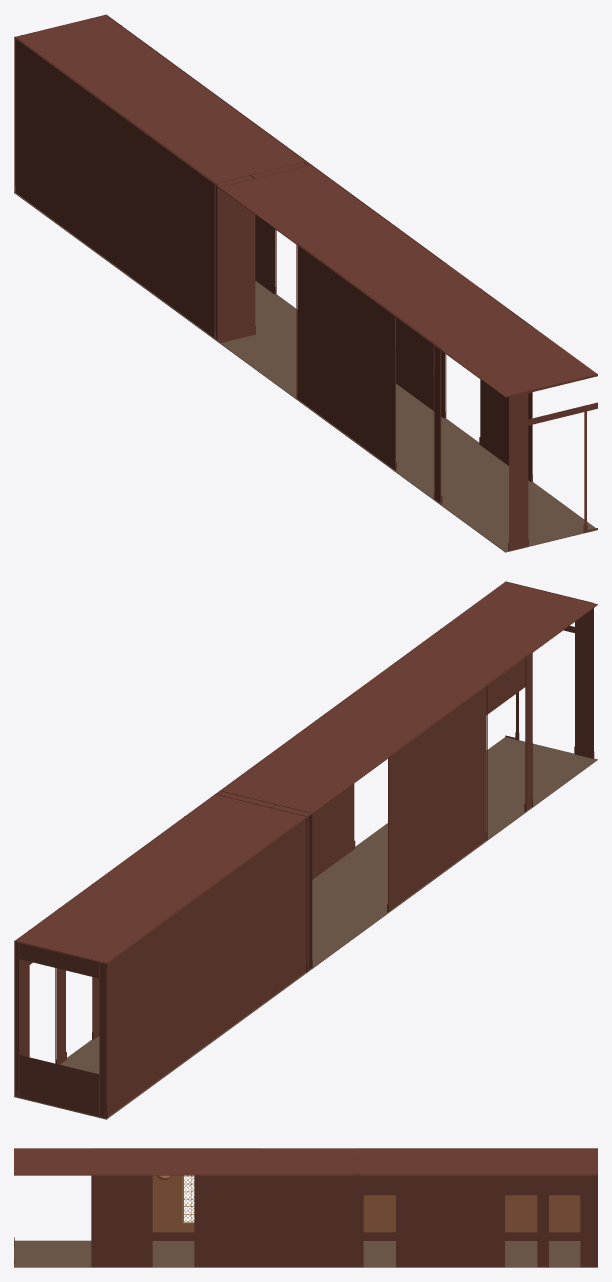
Rendered from corridor-2.glb.
3 renders of one model, top to bottom at view 1: azimuth 30°, elevation 25°; view 2: azimuth 150°, elevation 25°; view 3: azimuth 270°, elevation 25°, orthographic. The views are drawn at different scales.
Parts seen in each view (by area): view 1: DESIGN | corridor removable wall finish, DESIGN | corridor ceiling finish, DESIGN | corridor floor finish; view 2: DESIGN | corridor removable wall finish, DESIGN | corridor ceiling finish, DESIGN | corridor floor finish; view 3: DESIGN | corridor removable wall finish, DESIGN | corridor ceiling finish, DESIGN | corridor floor finish, DESIGN | Oxblood gallery mirror backing, DESIGN | Oxblood gallery mirror backing.001, DESIGN | Evening bronze-lit lattice diffuse backing.001, DESIGN | Kumiko | Evening bronze-lit lattice.001.
Part boxes in pixels (<box>): DESIGN | corridor removable wall finish: <box>14,14,597,550</box>; DESIGN | corridor ceiling finish: <box>14,15,597,397</box>; DESIGN | corridor floor finish: <box>14,192,597,552</box>; DESIGN | corridor removable wall finish: <box>14,581,594,1118</box>; DESIGN | corridor ceiling finish: <box>14,582,597,964</box>; DESIGN | corridor floor finish: <box>14,737,597,1119</box>; DESIGN | corridor removable wall finish: <box>14,1148,597,1267</box>; DESIGN | corridor ceiling finish: <box>14,1148,597,1175</box>; DESIGN | corridor floor finish: <box>14,1240,597,1267</box>; DESIGN | Oxblood gallery mirror backing: <box>363,1195,580,1232</box>; DESIGN | Oxblood gallery mirror backing.001: <box>152,1175,194,1232</box>; DESIGN | Evening bronze-lit lattice diffuse backing.001: <box>184,1175,194,1222</box>; DESIGN | Kumiko | Evening bronze-lit lattice.001: <box>182,1175,194,1223</box>.
Size of the model in its own units: 1.7 by 2.74 by 15.63.
